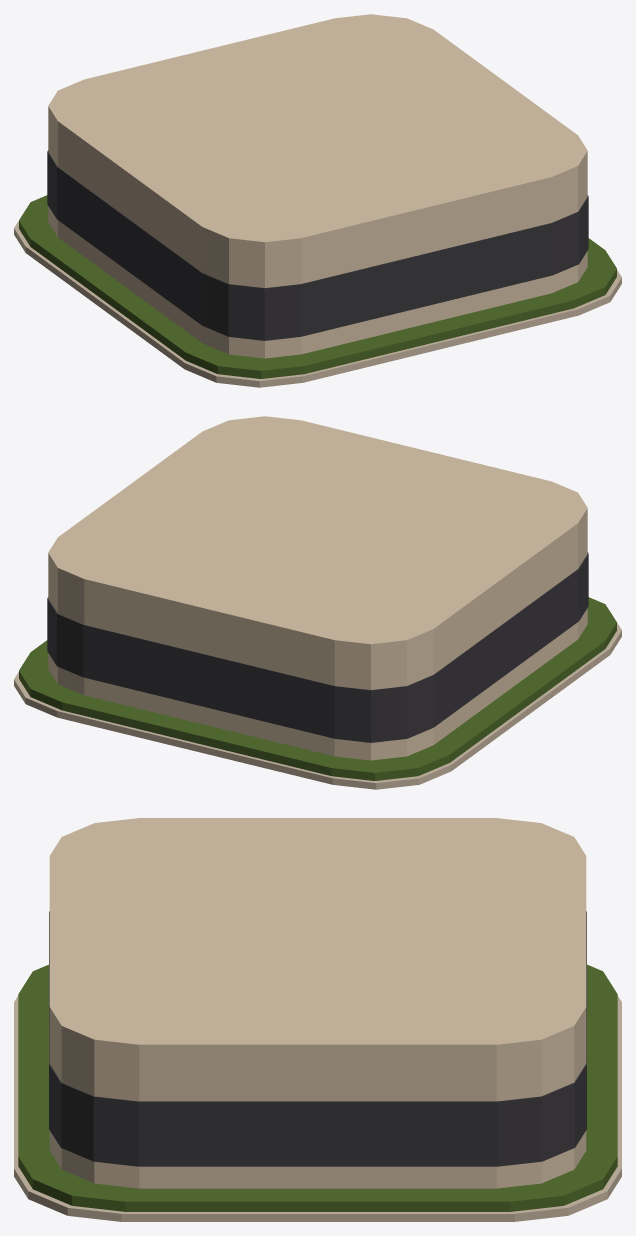
File: city_far_tower_storey.glb
3 renders of one model, top to bottom at view 1: azimuth 30°, elevation 25°; view 2: azimuth 150°, elevation 25°; view 3: azimuth 270°, elevation 25°, orthographic. The views are drawn at different scales.
Parts seen in each view (by area): view 1: CityFarTowerStorey_Core, CityFarTowerStorey_Windows, CityFarTowerStorey_Planting, CityFarTowerStorey_Lip; view 2: CityFarTowerStorey_Core, CityFarTowerStorey_Windows, CityFarTowerStorey_Planting, CityFarTowerStorey_Lip; view 3: CityFarTowerStorey_Core, CityFarTowerStorey_Windows, CityFarTowerStorey_Planting, CityFarTowerStorey_Lip.
Part boxes in pixels (x1,y1,x2,y2): CityFarTowerStorey_Core: [48, 14, 587, 358]; CityFarTowerStorey_Windows: [47, 150, 588, 340]; CityFarTowerStorey_Planting: [19, 195, 616, 378]; CityFarTowerStorey_Lip: [14, 213, 621, 387]; CityFarTowerStorey_Core: [48, 416, 587, 760]; CityFarTowerStorey_Windows: [47, 552, 588, 742]; CityFarTowerStorey_Planting: [19, 597, 616, 780]; CityFarTowerStorey_Lip: [14, 615, 621, 789]; CityFarTowerStorey_Core: [49, 818, 586, 1188]; CityFarTowerStorey_Windows: [49, 911, 586, 1166]; CityFarTowerStorey_Planting: [18, 964, 617, 1211]; CityFarTowerStorey_Lip: [14, 996, 621, 1221].
Size of the model in its own units: 13.6 by 4 by 13.6.
